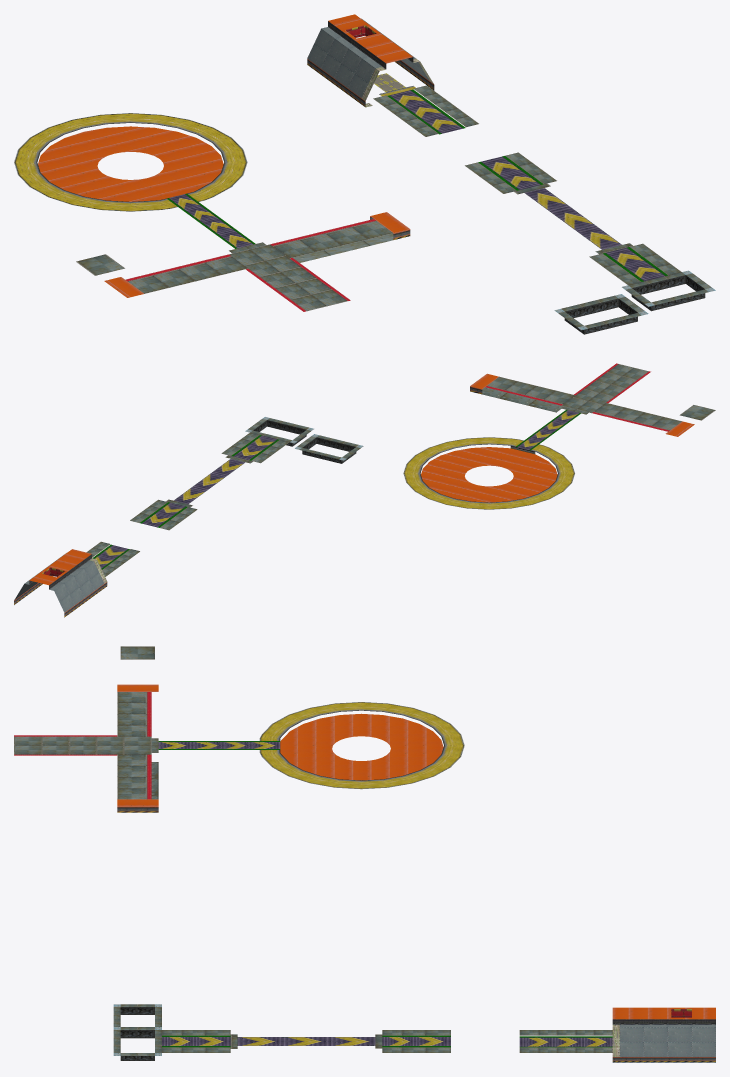
File: STG08_ONS_07.obj
The picture shows the model from 3 angles, top to bottom: view 1: azimuth 30°, elevation 25°; view 2: azimuth 150°, elevation 25°; view 3: azimuth 270°, elevation 25°; orthographic projection. The views are drawn at different scales.
Visible parts, largest first — view 1: Object_2; view 2: Object_2; view 3: Object_2.
Boxes of the visible parts, x1,y1,x2,y2 form: Object_2: (14, 14, 715, 334); Object_2: (14, 363, 715, 617); Object_2: (14, 646, 715, 1062).
Bounding box in the file's own units: 1831 × 505 × 2040.
18 materials, 18 textured.
